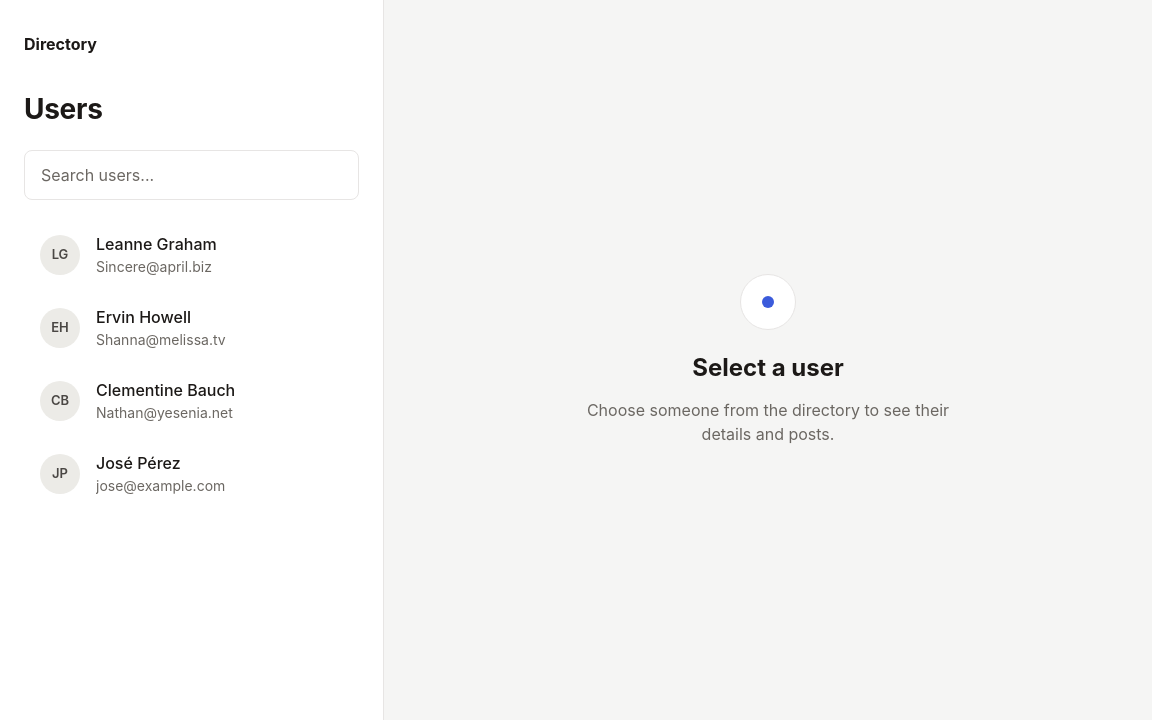
Test case: Create post › keeps the typed values and shows an error when publishing fails
Click the button "LG Leanne Graham Sincere@april.biz" at {"x": 192, "y": 254}, box [24,220,359,289]
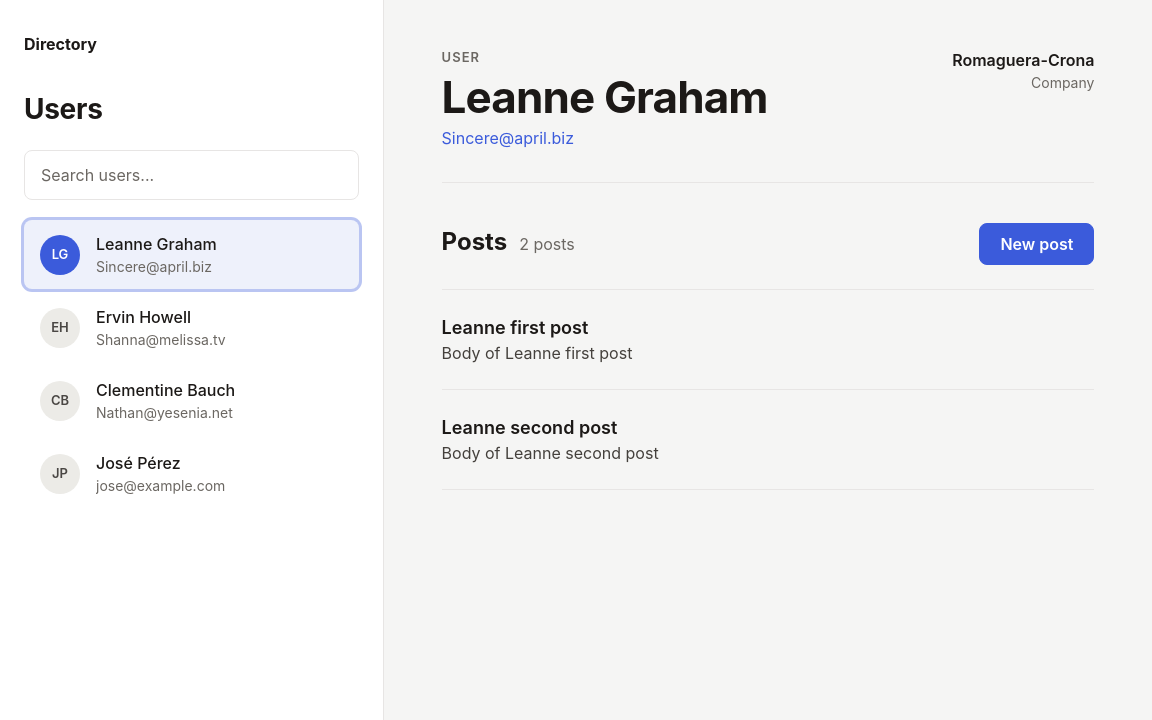
Result: the list named "Posts" is shown at [442,289,1094,490]
Click the button "New post" at {"x": 1037, "y": 244}, box [979,223,1094,265]
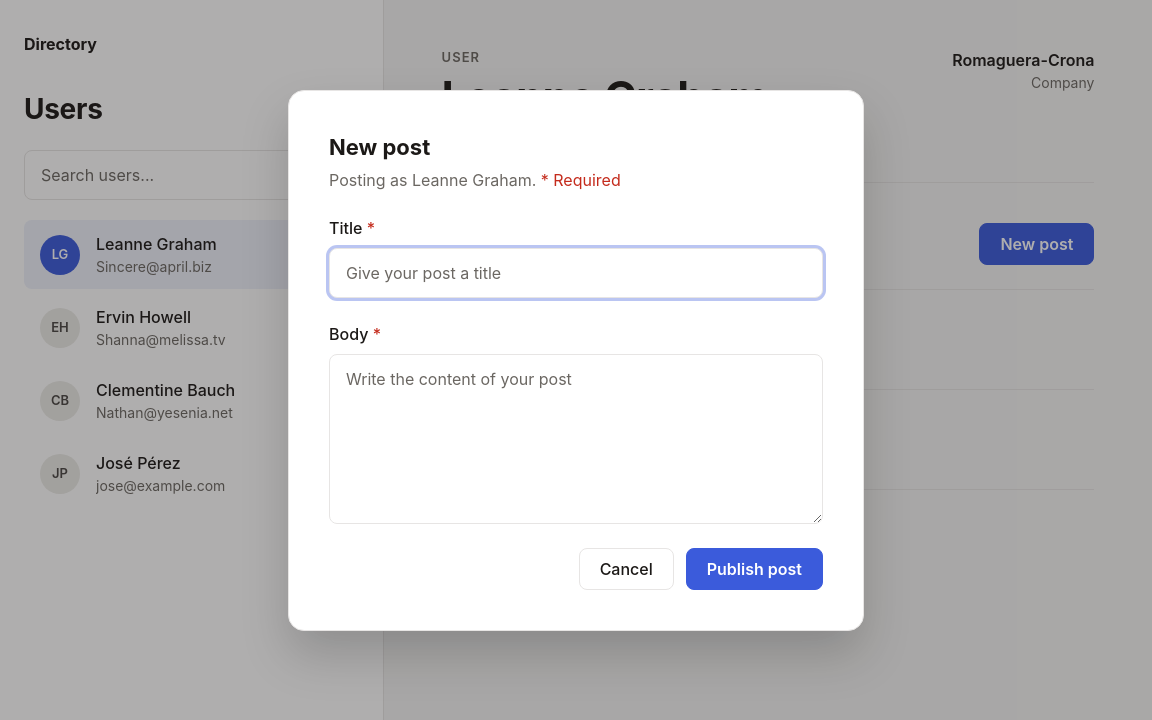
Type "Will fail" into the field labelled "Title *" at {"x": 576, "y": 272}, box [329,248,823,298]
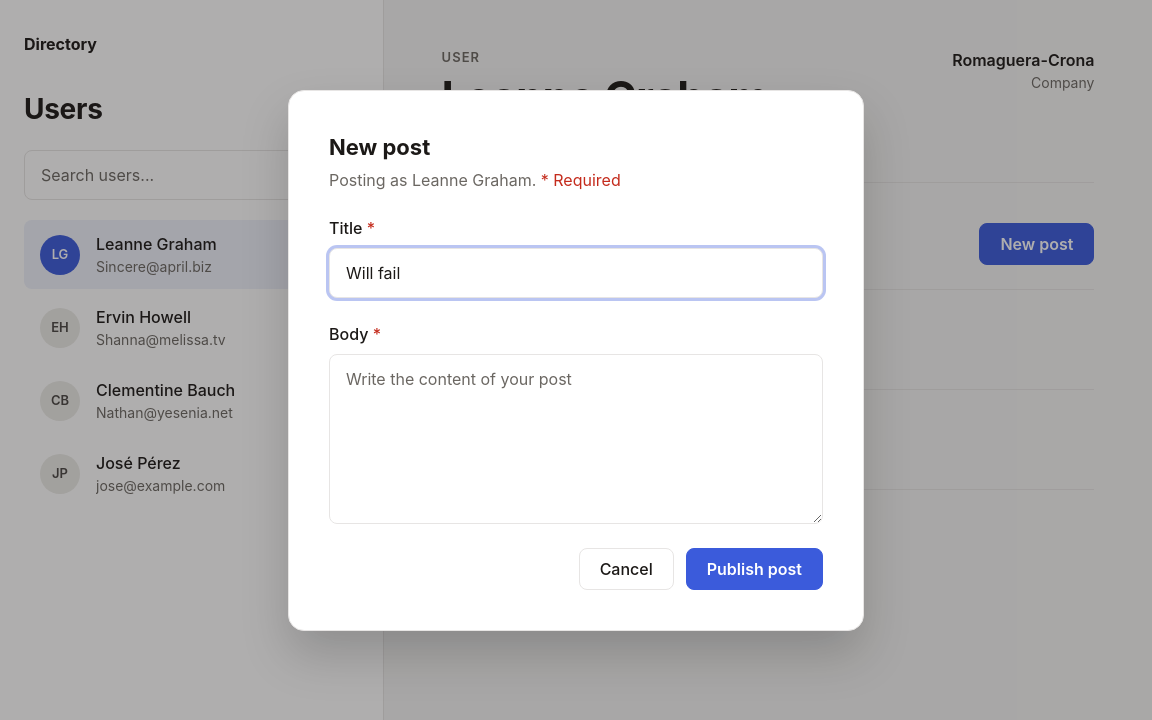
Type "Server is down" into the text box labelled "Body *" at {"x": 576, "y": 438}, box [329,354,823,524]
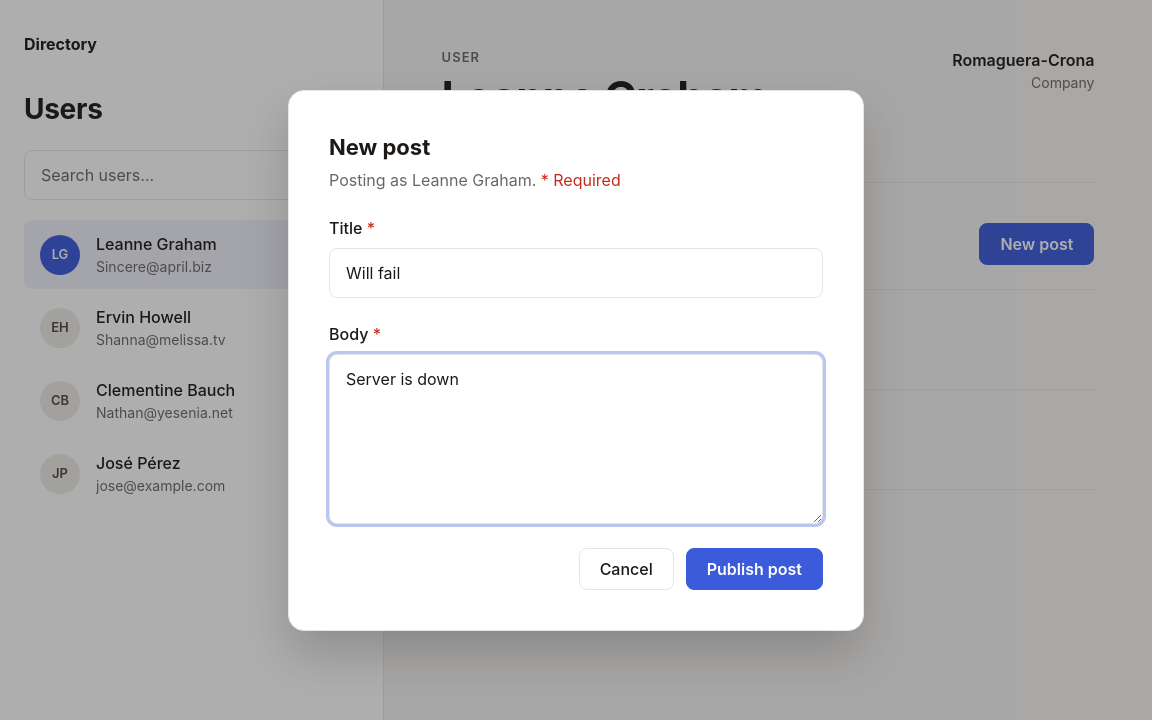
Click the button "Publish post" at {"x": 754, "y": 568}, box [686,548,823,590]
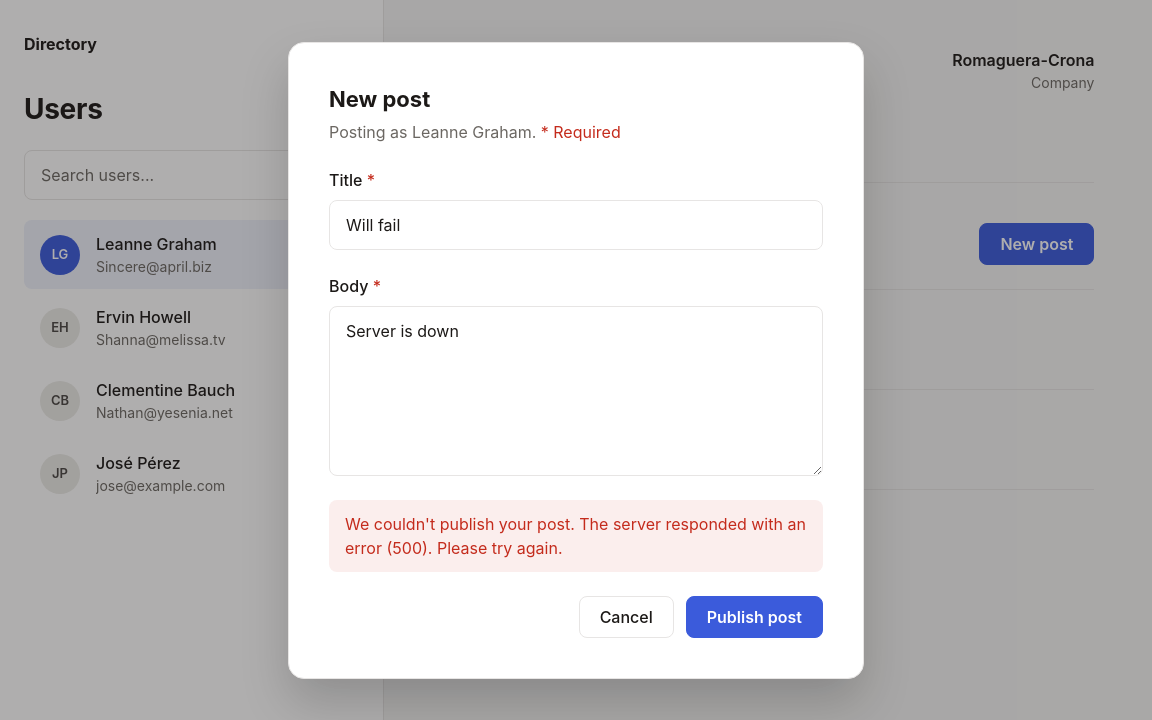
Result: the button "Publish post" is enabled at [686,596,823,638]
Result: the message shows "We couldn't publish your post" at [345,514,579,534]
